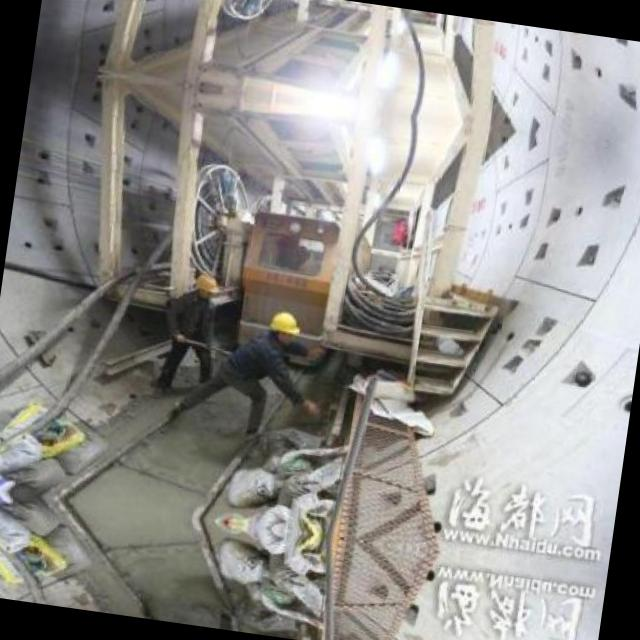helmet: (265, 306, 301, 348), (188, 270, 222, 304)
